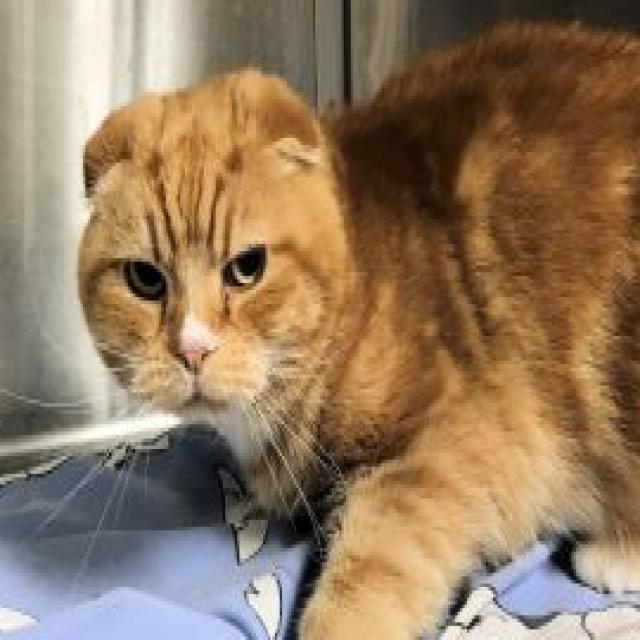Scottish Fold: (73, 10, 639, 640)
